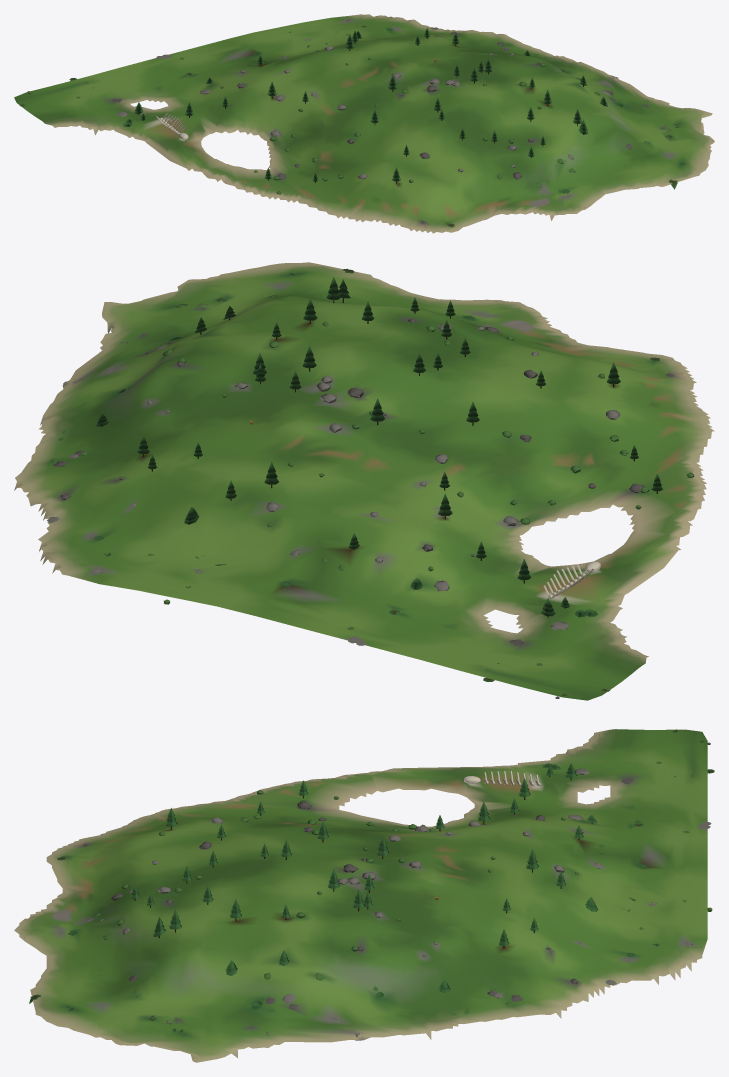
The model's file is arch_isl_coil_isle_lod1.glb.
3 views of the same model, one above another, from view 1: azimuth 30°, elevation 25°; view 2: azimuth 150°, elevation 25°; view 3: azimuth 270°, elevation 25° (orthographic). The views are drawn at different scales.
Visible parts, largest first — view 1: arch_isl_coil_isle_lod1; view 2: arch_isl_coil_isle_lod1; view 3: arch_isl_coil_isle_lod1.
Part boxes in pixels (left/top/right/bottom): arch_isl_coil_isle_lod1: left=14, top=14, right=714, bottom=233; arch_isl_coil_isle_lod1: left=14, top=262, right=714, bottom=700; arch_isl_coil_isle_lod1: left=14, top=729, right=714, bottom=1062.
Bounding box in the file's own units: 290 × 32.67 × 259.
